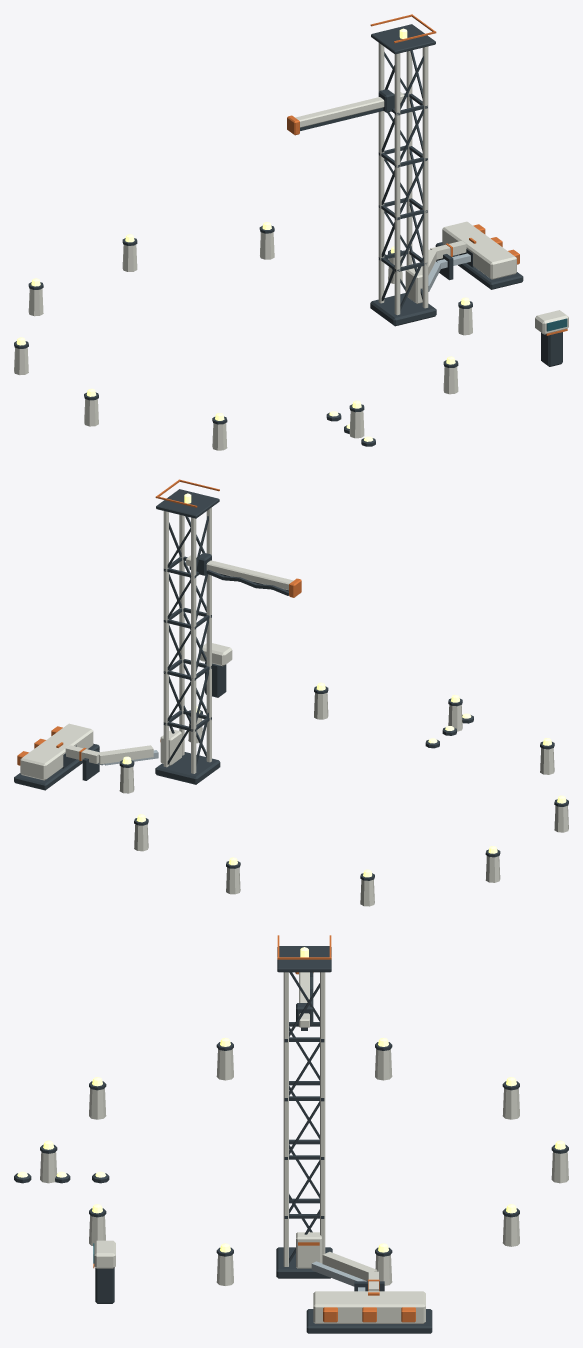
The model's file is launchpad-v2b.glb.
The picture shows the model from 3 angles, top to bottom: view 1: azimuth 30°, elevation 25°; view 2: azimuth 150°, elevation 25°; view 3: azimuth 270°, elevation 25°; orthographic projection. The views are drawn at different scales.
Parts seen in each view (by area): view 1: launchpad-v2b_ivory, launchpad-v2b_dark, Umbilical, launchpad-v2b_light, launchpad-v2b_orange; view 2: launchpad-v2b_ivory, launchpad-v2b_dark, Umbilical, launchpad-v2b_light, launchpad-v2b_orange; view 3: launchpad-v2b_ivory, launchpad-v2b_dark, launchpad-v2b_orange, launchpad-v2b_light, Umbilical, launchpad-v2b_metal.
Boxes of the visible parts, box(x1,y1,x2,y2) form: launchpad-v2b_ivory: box(14, 43, 568, 450); launchpad-v2b_dark: box(14, 24, 562, 446); Umbilical: box(287, 89, 405, 135); launchpad-v2b_light: box(16, 28, 470, 441); launchpad-v2b_orange: box(370, 14, 567, 335); launchpad-v2b_ivory: box(20, 507, 568, 906); launchpad-v2b_dark: box(14, 489, 568, 880); Umbilical: box(186, 552, 301, 597); launchpad-v2b_light: box(122, 493, 566, 877); launchpad-v2b_orange: box(17, 479, 219, 765); launchpad-v2b_ivory: box(40, 972, 568, 1323); launchpad-v2b_dark: box(14, 946, 568, 1333); launchpad-v2b_orange: box(93, 935, 415, 1322); launchpad-v2b_light: box(17, 947, 565, 1252); Umbilical: box(295, 972, 313, 1030); launchpad-v2b_metal: box(311, 1261, 365, 1291).
Bounding box in the file's own units: 14.37 × 8.17 × 12.8.
